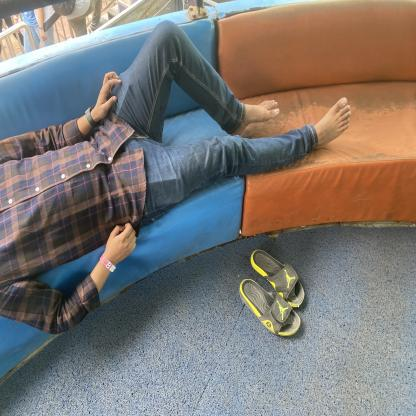hand: (55, 202, 156, 317), (51, 58, 130, 141)
leg: (233, 92, 387, 194), (184, 51, 285, 140)
